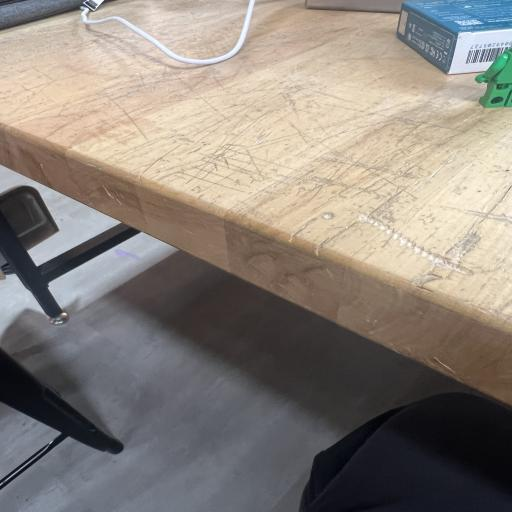green-lego-minifigure-detector: (475, 49, 512, 108)
